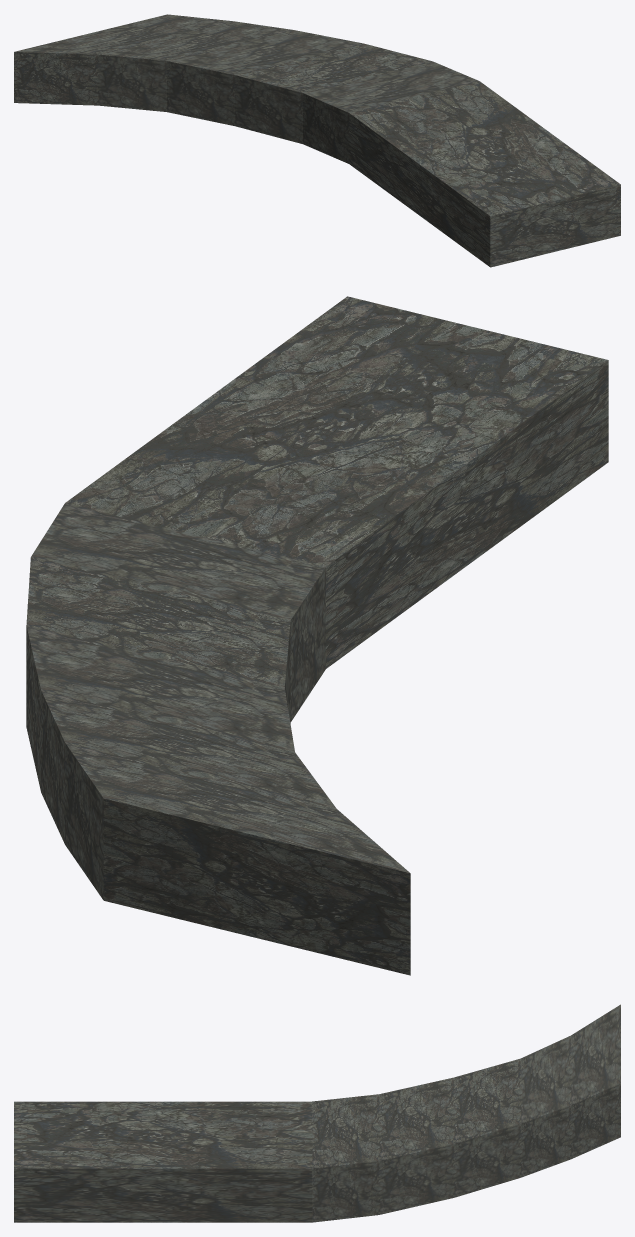
Rendered from caveplatformmaterial.fbx.
3 views of the same model, one above another, from view 1: azimuth 30°, elevation 25°; view 2: azimuth 150°, elevation 25°; view 3: azimuth 270°, elevation 25° (orthographic). The views are drawn at different scales.
Visible parts, largest first — view 1: Cube; view 2: Cube; view 3: Cube.
Boxes of the visible parts, <box> form: Cube: <box>14,14,620,267</box>; Cube: <box>26,296,608,975</box>; Cube: <box>14,1004,620,1222</box>.
Size of the model in its own units: 489 by 74.9 by 764.
